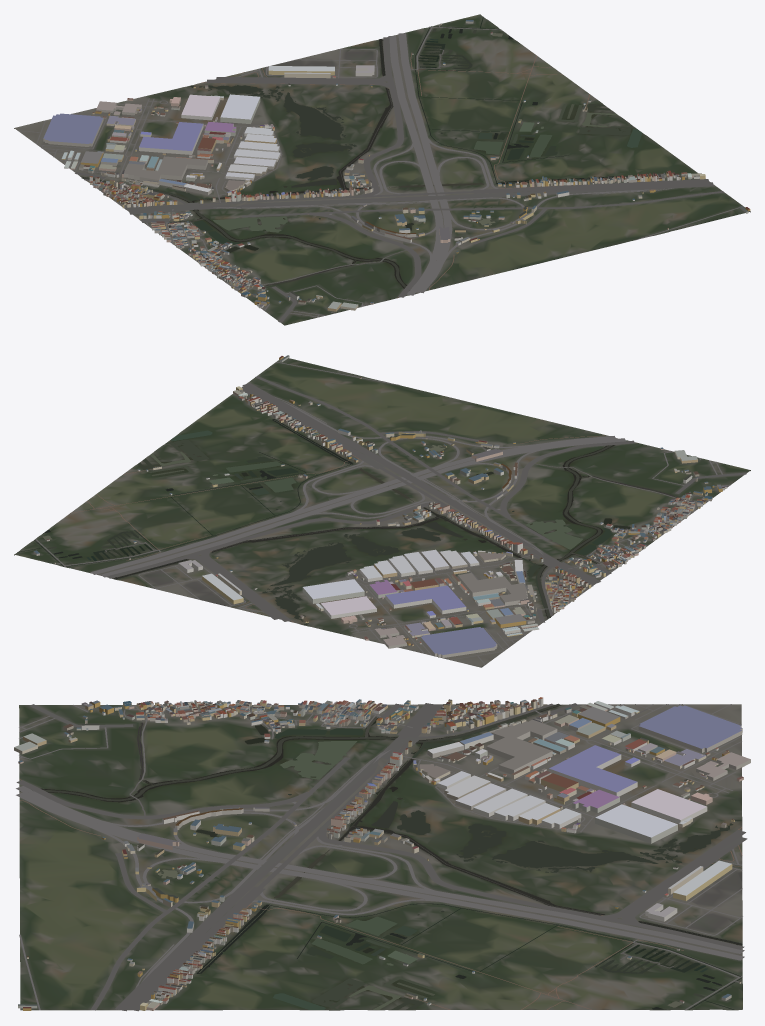
3 renders of one model, top to bottom at view 1: azimuth 30°, elevation 25°; view 2: azimuth 150°, elevation 25°; view 3: azimuth 270°, elevation 25°, orthographic. The views are drawn at different scales.
Parts seen in each view (by area): view 1: ground, buildings, roads, water; view 2: ground, buildings, roads, water; view 3: ground, buildings, roads, water.
Boxes of the visible parts, bbox=[...] form: ground: bbox=[14, 14, 750, 325]; buildings: bbox=[43, 20, 750, 311]; roads: bbox=[18, 25, 743, 322]; water: bbox=[81, 16, 667, 293]; ground: bbox=[14, 357, 750, 667]; buildings: bbox=[33, 355, 727, 657]; roads: bbox=[35, 362, 746, 664]; water: bbox=[17, 377, 678, 625]; ground: bbox=[19, 704, 742, 1010]; buildings: bbox=[14, 697, 750, 1010]; roads: bbox=[16, 703, 747, 1011]; water: bbox=[19, 703, 742, 1009].
Size of the model in its own units: 1418 by 27.98 by 1430.
